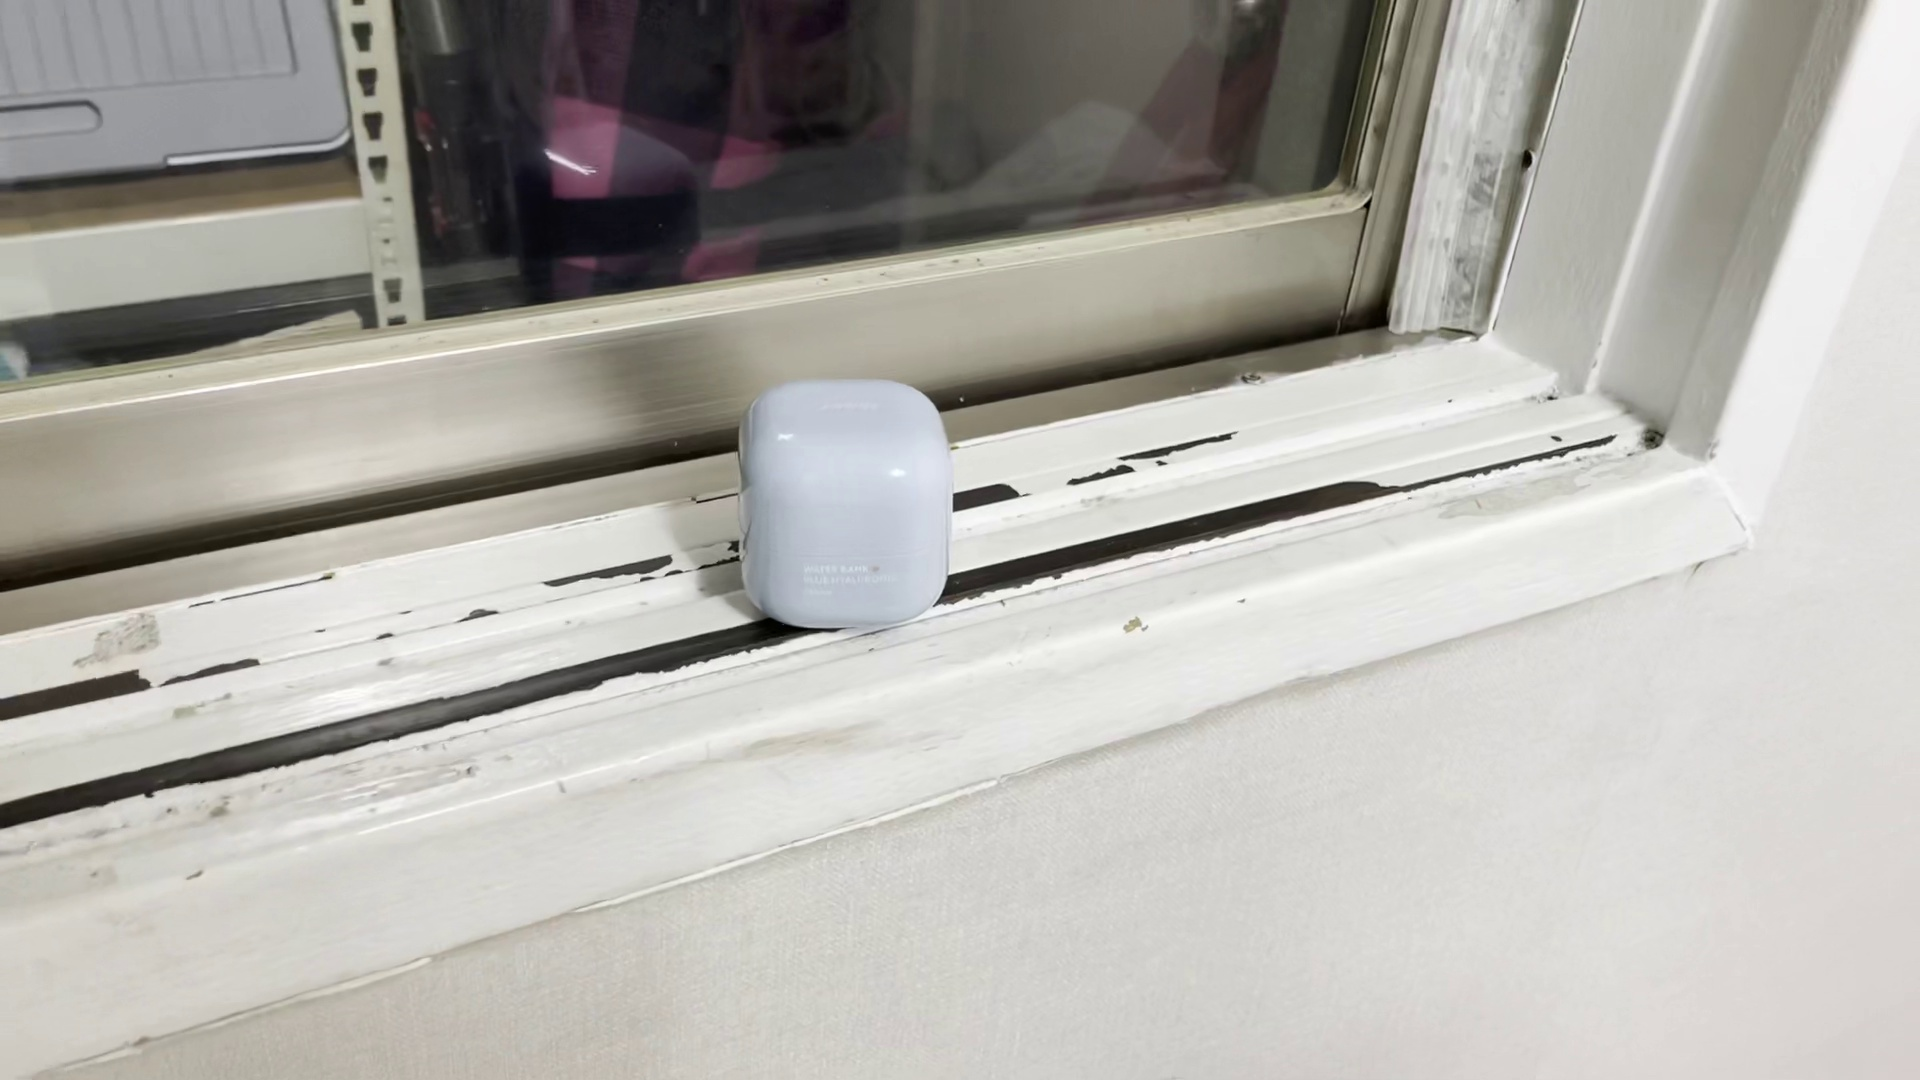cream: (736, 380, 949, 632)
